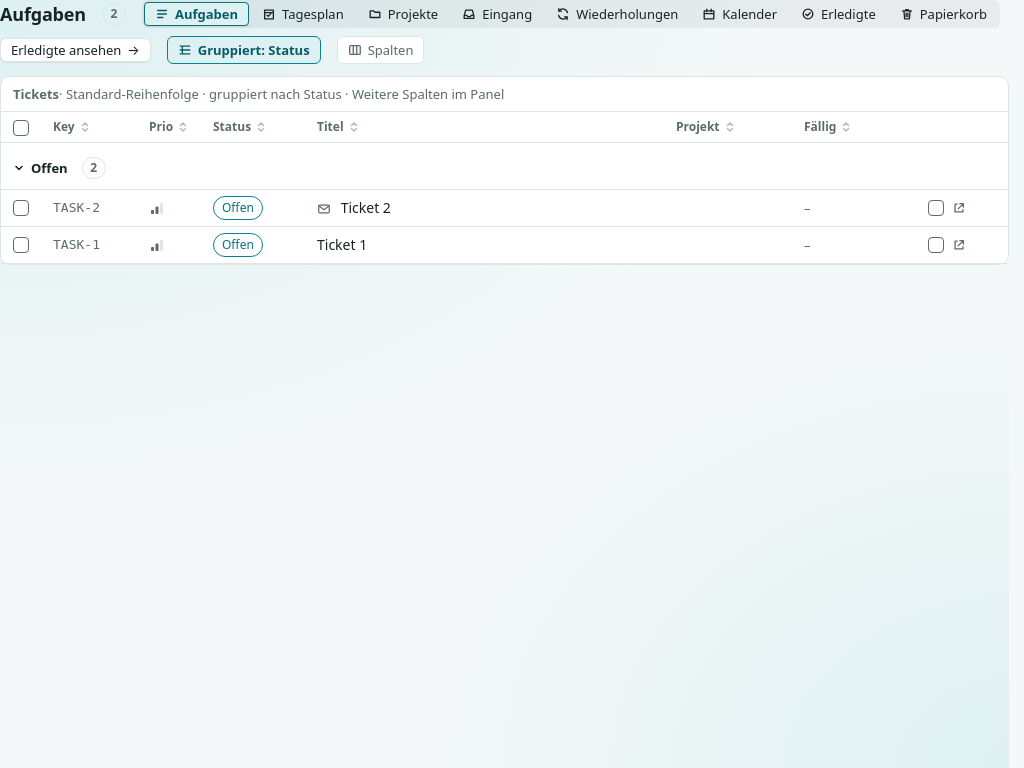
Test: menu "Spalten" (ADR-0030) › keeps columns hidden for lack of space checked and says why
The image size is (1024, 768).
Click the button "Spalten" at (380, 50), box [337,36,424,64]
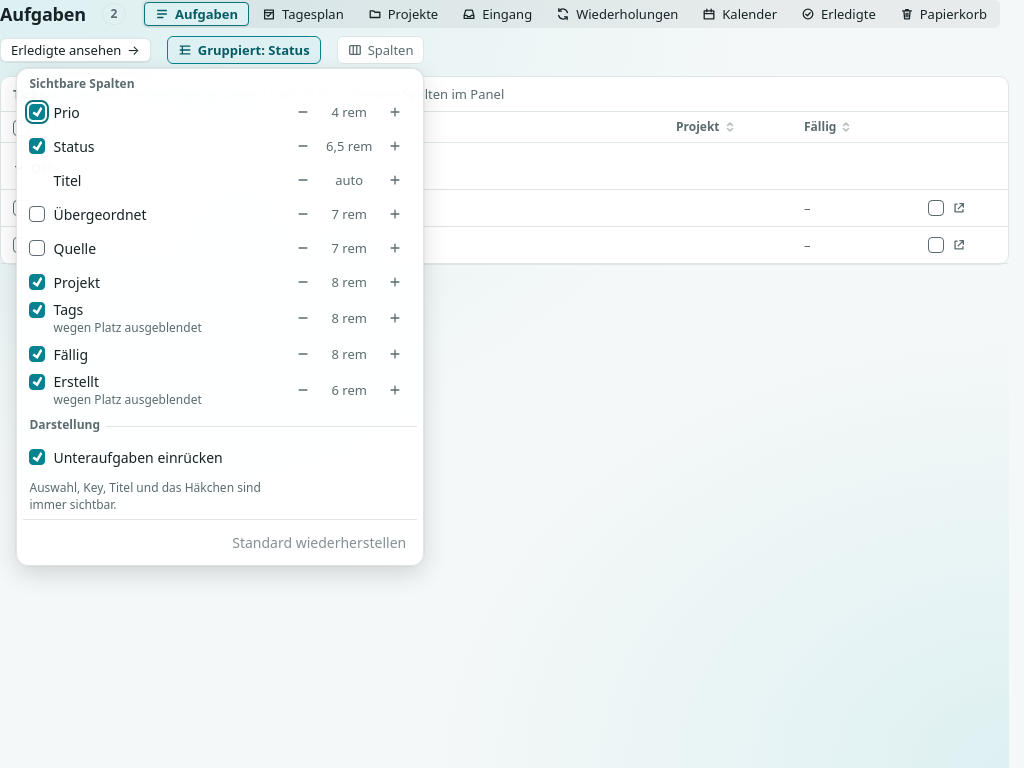
Expected: the text "wegen Platz ausgeblendet" below "Erstellt" is shown, [54,391,202,408]
